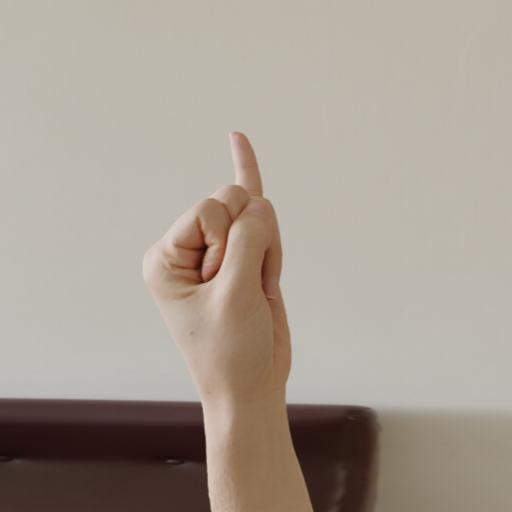I: (137, 126, 296, 398)
